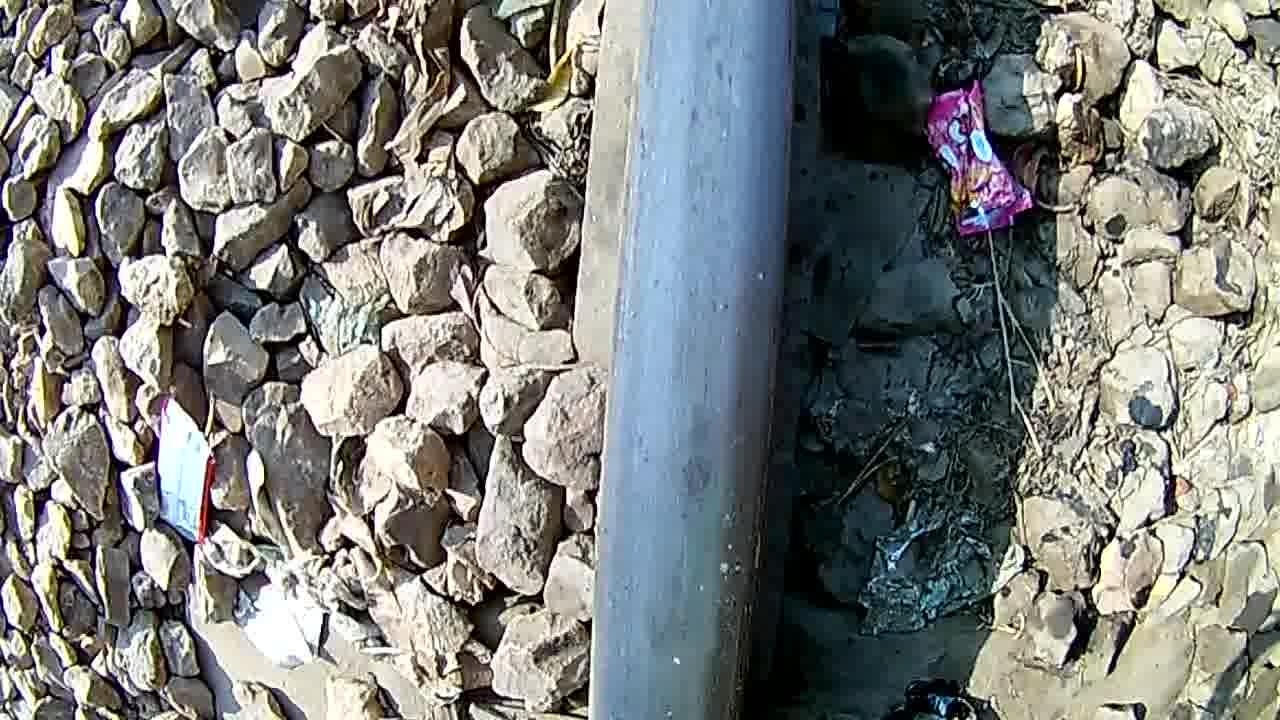bolt_missing: (620, 56, 791, 720)
